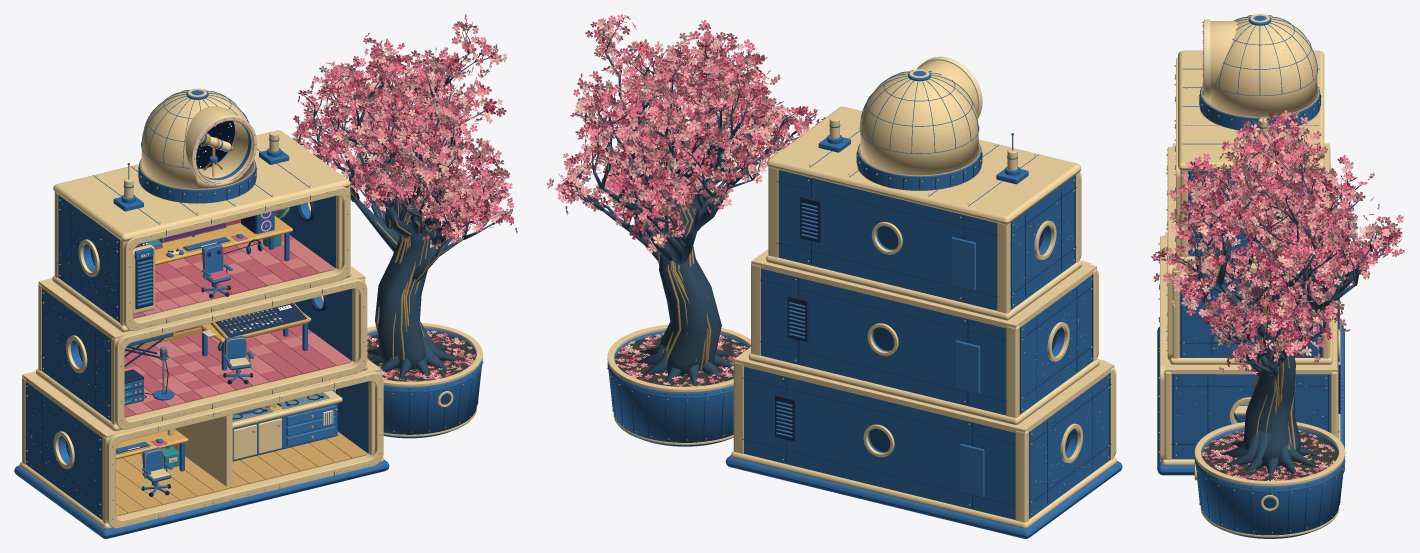
The model's file is curiosity-house.glb.
3 renders of one model, left to right at view 1: azimuth 30°, elevation 25°; view 2: azimuth 150°, elevation 25°; view 3: azimuth 270°, elevation 25°, orthographic. The views are drawn at different scales.
Visible parts, largest first — view 1: Cherry blossoms / color batch 1, Cherry blossoms / color batch 2, Ivory roof plate, Cherry blossoms / color batch 0, Continuous rounded front frame, Continuous rounded front frame.001, Tier 0 / left side shell, Continuous rounded front frame.002, Tier 1 / left side shell, Gnarled central trunk, Observatory / complete ivory dome, Tier 2 / left side shell (+28 smaller); view 2: Tier 0 / back shell, Tier 1 / back shell, Tier 2 / back shell, Cherry blossoms / color batch 2, Cherry blossoms / color batch 1, Ivory roof plate, Observatory / complete ivory dome, Cherry blossoms / color batch 0, Tier 0 / left side shell, Planter / thick hollow bowl, Tier 1 / left side shell, Tier 2 / left side shell (+26 smaller); view 3: Cherry blossoms / color batch 2, Cherry blossoms / color batch 1, Cherry blossoms / color batch 0, Observatory / complete ivory dome, Planter / thick hollow bowl, Tier 0 / right side shell, Ivory roof plate, Cherry blossoms / color batch 3, Gnarled central trunk, Cherry blossoms / color batch 4, Tier 1 / right side shell, Planter / soil (+22 smaller).
Boxes of the visible parts, x1=… form: Cherry blossoms / color batch 1: x1=300, y1=23, x2=513, y2=379; Cherry blossoms / color batch 2: x1=292, y1=18, x2=517, y2=381; Ivory roof plate: x1=53, y1=130, x2=350, y2=241; Cherry blossoms / color batch 0: x1=292, y1=21, x2=513, y2=381; Continuous rounded front frame: x1=106, y1=371, x2=383, y2=528; Continuous rounded front frame.001: x1=115, y1=278, x2=367, y2=429; Tier 0 / left side shell: x1=25, y1=382, x2=102, y2=520; Continuous rounded front frame.002: x1=123, y1=187, x2=350, y2=330; Tier 1 / left side shell: x1=42, y1=289, x2=111, y2=421; Gnarled central trunk: x1=375, y1=136, x2=430, y2=371; Observatory / complete ivory dome: x1=141, y1=90, x2=253, y2=188; Tier 2 / left side shell: x1=58, y1=195, x2=119, y2=322; Tier 0 / back shell: x1=744, y1=366, x2=1015, y2=519; Tier 1 / back shell: x1=761, y1=268, x2=1005, y2=415; Tier 2 / back shell: x1=778, y1=170, x2=996, y2=310; Cherry blossoms / color batch 2: x1=555, y1=15, x2=816, y2=385; Cherry blossoms / color batch 1: x1=557, y1=14, x2=817, y2=386; Ivory roof plate: x1=767, y1=106, x2=1081, y2=224; Observatory / complete ivory dome: x1=860, y1=71, x2=978, y2=175; Cherry blossoms / color batch 0: x1=561, y1=15, x2=825, y2=386; Tier 0 / left side shell: x1=1029, y1=373, x2=1110, y2=519; Planter / thick hollow bowl: x1=608, y1=330, x2=749, y2=446; Tier 1 / left side shell: x1=1019, y1=274, x2=1093, y2=414; Tier 2 / left side shell: x1=1010, y1=175, x2=1075, y2=309; Cherry blossoms / color batch 2: x1=1166, y1=111, x2=1398, y2=478; Cherry blossoms / color batch 1: x1=1151, y1=110, x2=1405, y2=480; Cherry blossoms / color batch 0: x1=1153, y1=107, x2=1403, y2=480; Observatory / complete ivory dome: x1=1203, y1=15, x2=1317, y2=116; Planter / thick hollow bowl: x1=1195, y1=427, x2=1344, y2=538; Tier 0 / right side shell: x1=1171, y1=374, x2=1330, y2=459; Ivory roof plate: x1=1178, y1=50, x2=1324, y2=170; Cherry blossoms / color batch 3: x1=1158, y1=112, x2=1398, y2=479; Gnarled central trunk: x1=1241, y1=235, x2=1300, y2=465; Cherry blossoms / color batch 4: x1=1171, y1=120, x2=1386, y2=480; Tier 1 / right side shell: x1=1179, y1=273, x2=1322, y2=357; Planter / soil: x1=1201, y1=431, x2=1338, y2=480.
Size of the model in its own units: 11.36 by 8.91 by 5.16.
